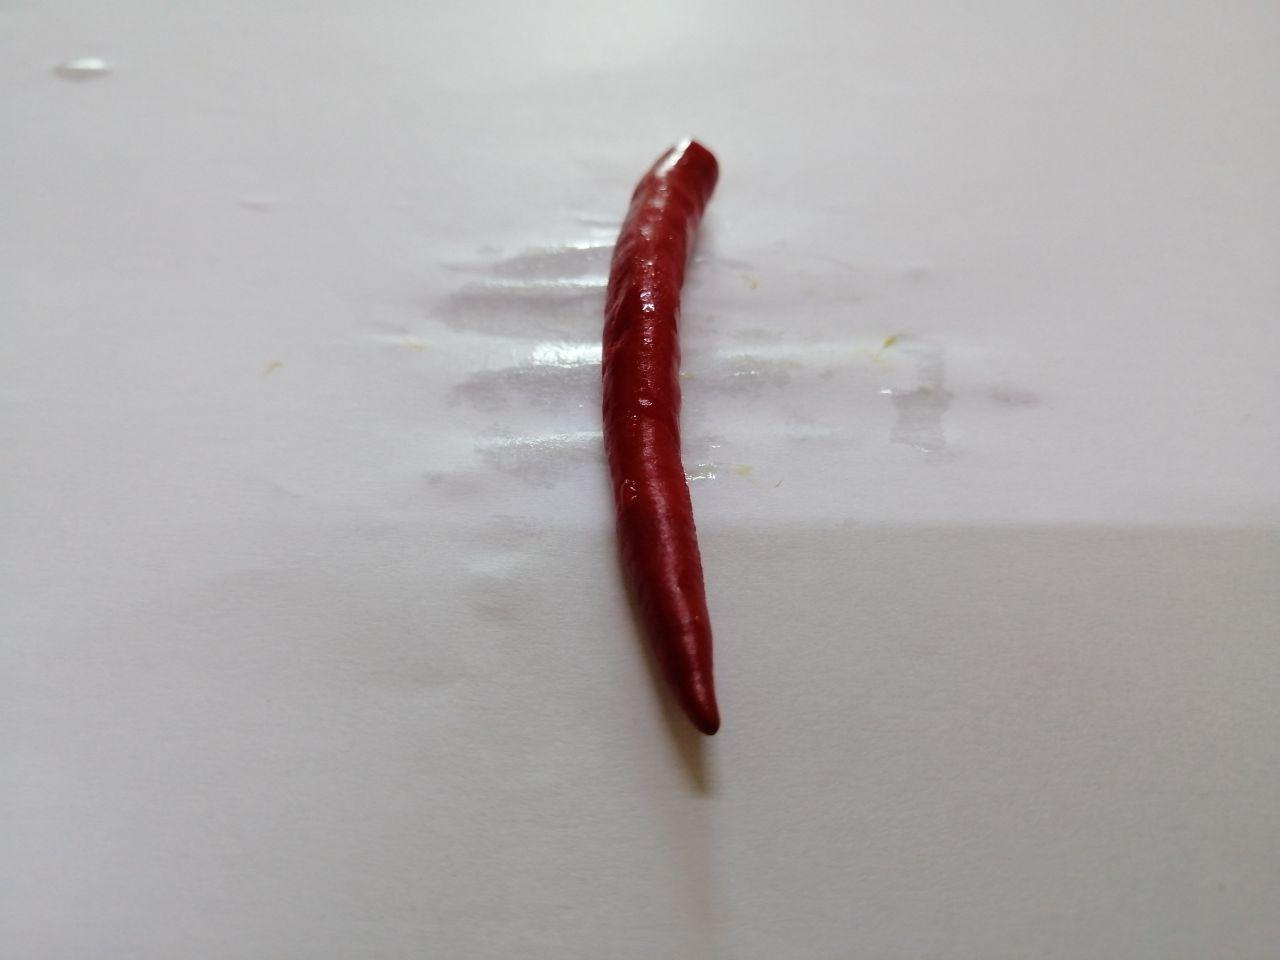lada merah: (580, 114, 777, 765)
